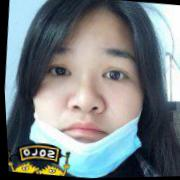WRONG: (22, 22, 151, 178)
